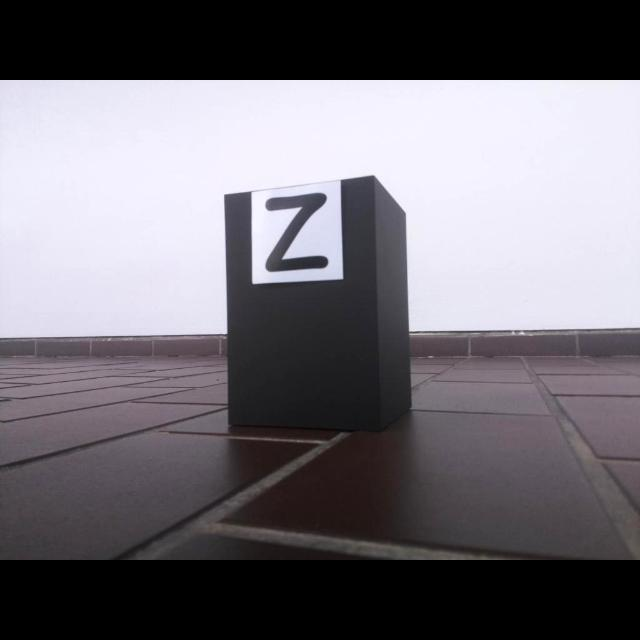Z: (265, 193, 328, 271)
